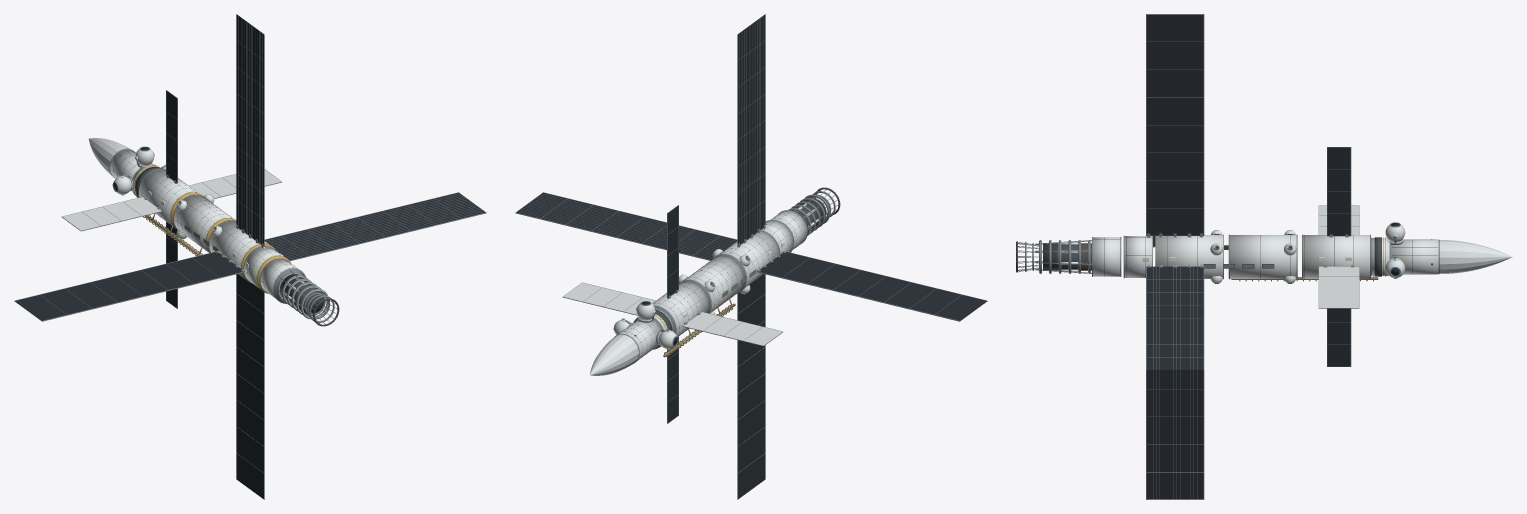
The model's file is earth.glb.
3 renders of one model, left to right at view 1: azimuth 30°, elevation 25°; view 2: azimuth 150°, elevation 25°; view 3: azimuth 270°, elevation 25°, orthographic. The views are drawn at different scales.
Visible parts, largest first — view 1: B_Pale_aerospace_protective_panels, Rad_RadPivot1_Graphite_carbon-carbon_radiator_fins, Rad_RadPivot3_Graphite_carbon-carbon_radiator_fins, Rad_RadPivot2_Graphite_carbon-carbon_radiator_fins, Rad_RadPivot0_Graphite_carbon-carbon_radiator_fins, Rad_RadPivot0_Titanium_hardware_—_appearance_only, Rad_RadPivot1_Titanium_hardware_—_appearance_only, A_Titanium_hardware_—_appearance_only, Rad_RadPivot5_Pale_aerospace_protective_panels, N_Pale_aerospace_protective_panels, Rad_RadPivot6_Graphite_carbon-carbon_radiator_fins, Rad_RadPivot4_Pale_aerospace_protective_panels (+7 smaller); view 2: B_Pale_aerospace_protective_panels, Rad_RadPivot1_Graphite_carbon-carbon_radiator_fins, Rad_RadPivot2_Graphite_carbon-carbon_radiator_fins, Rad_RadPivot3_Graphite_carbon-carbon_radiator_fins, Rad_RadPivot0_Graphite_carbon-carbon_radiator_fins, Rad_RadPivot1_Titanium_hardware_—_appearance_only, Rad_RadPivot0_Titanium_hardware_—_appearance_only, N_Pale_aerospace_protective_panels, Rad_RadPivot5_Pale_aerospace_protective_panels, Rad_RadPivot4_Pale_aerospace_protective_panels, Rad_RadPivot6_Graphite_carbon-carbon_radiator_fins, B_Titanium_hardware_—_appearance_only (+5 smaller); view 3: Rad_RadPivot1_Graphite_carbon-carbon_radiator_fins, B_Pale_aerospace_protective_panels, Rad_RadPivot3_Graphite_carbon-carbon_radiator_fins, Rad_RadPivot0_Graphite_carbon-carbon_radiator_fins, N_Pale_aerospace_protective_panels, Rad_RadPivot6_Graphite_carbon-carbon_radiator_fins, Rad_RadPivot3_Titanium_hardware_—_appearance_only, Rad_RadPivot4_Pale_aerospace_protective_panels, Rad_RadPivot0_Titanium_hardware_—_appearance_only, Rad_RadPivot7_Graphite_carbon-carbon_radiator_fins, A_Titanium_hardware_—_appearance_only, Rad_RadPivot1_Titanium_hardware_—_appearance_only (+3 smaller).
Boxes of the visible parts, box(x1,y1,x2,y2) form: B_Pale_aerospace_protective_panels: box(132, 164, 297, 298); Rad_RadPivot1_Graphite_carbon-carbon_radiator_fins: box(236, 14, 263, 245); Rad_RadPivot3_Graphite_carbon-carbon_radiator_fins: box(236, 274, 263, 499); Rad_RadPivot2_Graphite_carbon-carbon_radiator_fins: box(14, 252, 242, 320); Rad_RadPivot0_Graphite_carbon-carbon_radiator_fins: box(264, 192, 485, 260); Rad_RadPivot0_Titanium_hardware_—_appearance_only: box(265, 192, 486, 261); Rad_RadPivot1_Titanium_hardware_—_appearance_only: box(236, 14, 264, 247); A_Titanium_hardware_—_appearance_only: box(273, 268, 337, 324); Rad_RadPivot5_Pale_aerospace_protective_panels: box(62, 197, 161, 230); N_Pale_aerospace_protective_panels: box(89, 138, 165, 195); Rad_RadPivot6_Graphite_carbon-carbon_radiator_fins: box(166, 91, 177, 182); Rad_RadPivot4_Pale_aerospace_protective_panels: box(189, 169, 281, 198); B_Pale_aerospace_protective_panels: box(652, 210, 806, 336); Rad_RadPivot1_Graphite_carbon-carbon_radiator_fins: box(738, 14, 765, 245); Rad_RadPivot2_Graphite_carbon-carbon_radiator_fins: box(759, 252, 987, 320); Rad_RadPivot3_Graphite_carbon-carbon_radiator_fins: box(738, 274, 765, 499); Rad_RadPivot0_Graphite_carbon-carbon_radiator_fins: box(516, 192, 737, 259); Rad_RadPivot1_Titanium_hardware_—_appearance_only: box(737, 14, 765, 247); Rad_RadPivot0_Titanium_hardware_—_appearance_only: box(515, 192, 736, 260); N_Pale_aerospace_protective_panels: box(590, 307, 670, 375); Rad_RadPivot5_Pale_aerospace_protective_panels: box(683, 312, 782, 345); Rad_RadPivot4_Pale_aerospace_protective_panels: box(563, 283, 655, 314); Rad_RadPivot6_Graphite_carbon-carbon_radiator_fins: box(667, 206, 678, 297); B_Titanium_hardware_—_appearance_only: box(633, 220, 794, 349); Rad_RadPivot1_Graphite_carbon-carbon_radiator_fins: box(1146, 14, 1203, 235); B_Pale_aerospace_protective_panels: box(1093, 230, 1389, 282); Rad_RadPivot3_Graphite_carbon-carbon_radiator_fins: box(1146, 370, 1203, 499); Rad_RadPivot0_Graphite_carbon-carbon_radiator_fins: box(1146, 266, 1203, 370); N_Pale_aerospace_protective_panels: box(1387, 234, 1512, 278); Rad_RadPivot6_Graphite_carbon-carbon_radiator_fins: box(1327, 147, 1350, 235); Rad_RadPivot3_Titanium_hardware_—_appearance_only: box(1146, 370, 1204, 499); Rad_RadPivot4_Pale_aerospace_protective_panels: box(1319, 266, 1359, 307); Rad_RadPivot0_Titanium_hardware_—_appearance_only: box(1146, 265, 1204, 370); Rad_RadPivot7_Graphite_carbon-carbon_radiator_fins: box(1327, 308, 1350, 366); A_Titanium_hardware_—_appearance_only: box(1018, 237, 1092, 276); Rad_RadPivot1_Titanium_hardware_—_appearance_only: box(1146, 14, 1204, 237).
Bounding box in the file's own units: 219 × 219 × 203.
